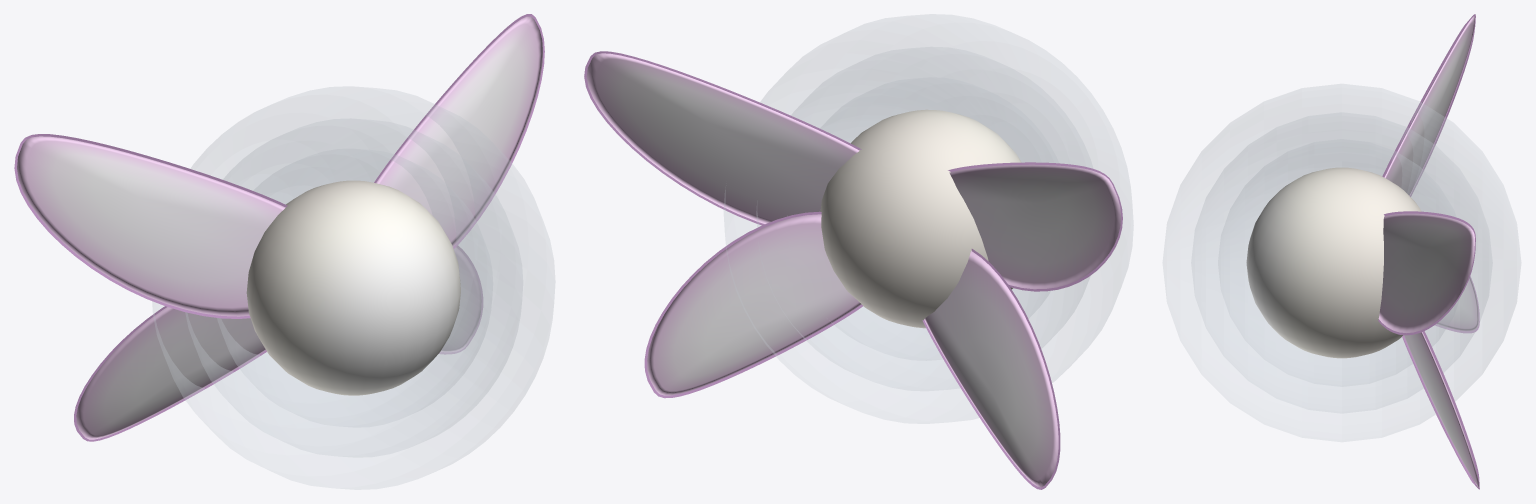
Rendered from fairy-white.glb.
The picture shows the model from 3 angles, left to right: view 1: azimuth 30°, elevation 25°; view 2: azimuth 150°, elevation 25°; view 3: azimuth 270°, elevation 25°; orthographic projection. The views are drawn at different scales.
Parts seen in each view (by area): view 1: fairy-white; view 2: fairy-white; view 3: fairy-white.
Boxes of the visible parts, x1,y1,x2,y2 form: fairy-white: (14, 14, 555, 489); fairy-white: (584, 14, 1133, 489); fairy-white: (1162, 14, 1521, 489).
Bounding box in the file's own units: 0.2838 × 0.188 × 0.188.
